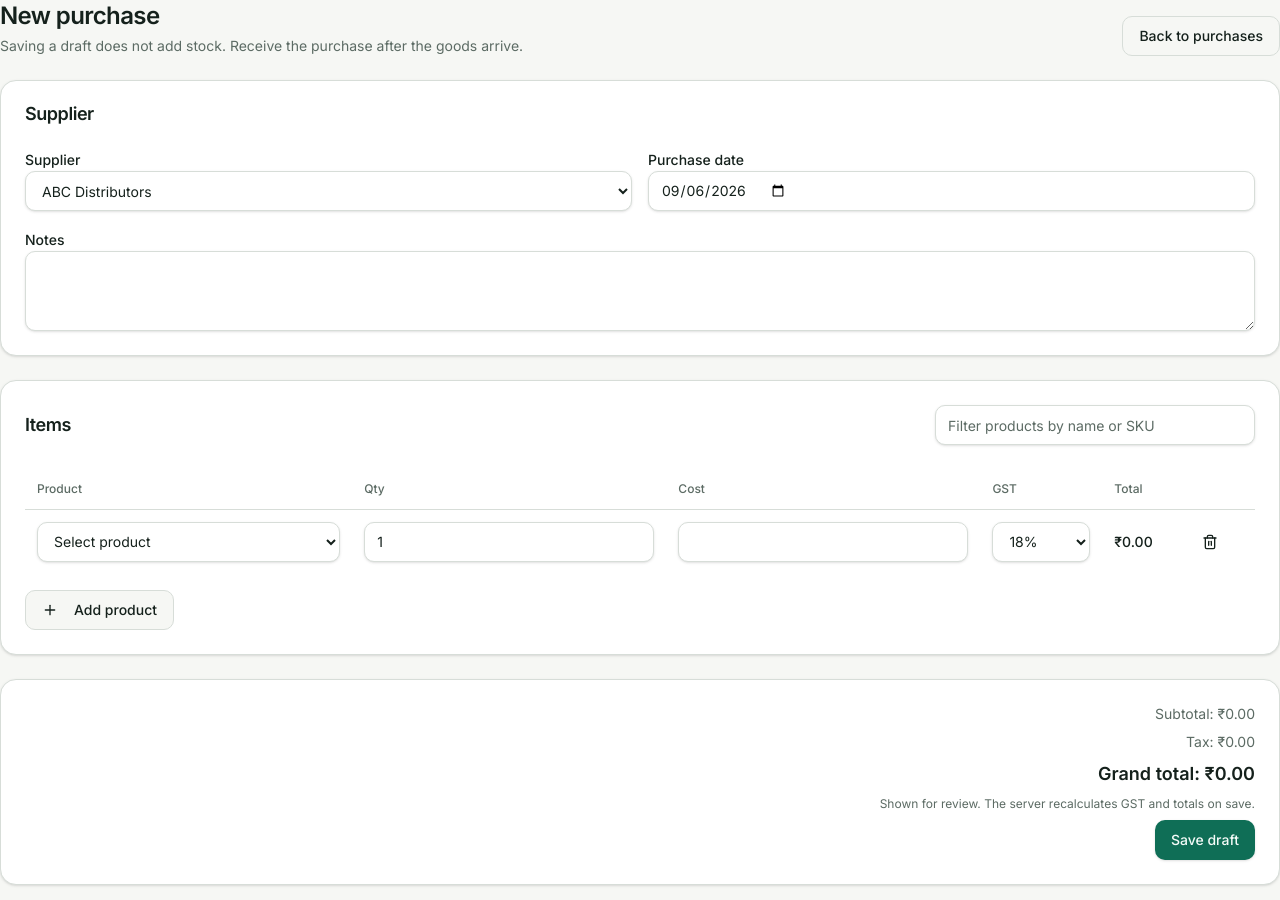
Purchase form › adds and removes lines and shows running totals
The width and height of the screenshot is (1280, 900).
Expected: the dropdown labelled "Supplier" is shown, [25,171,632,211]
Step 1. Select "Aavin Milk 500ml · AAVIN-500" in the dropdown named "Product" → (189, 542), box [37,522,340,562]
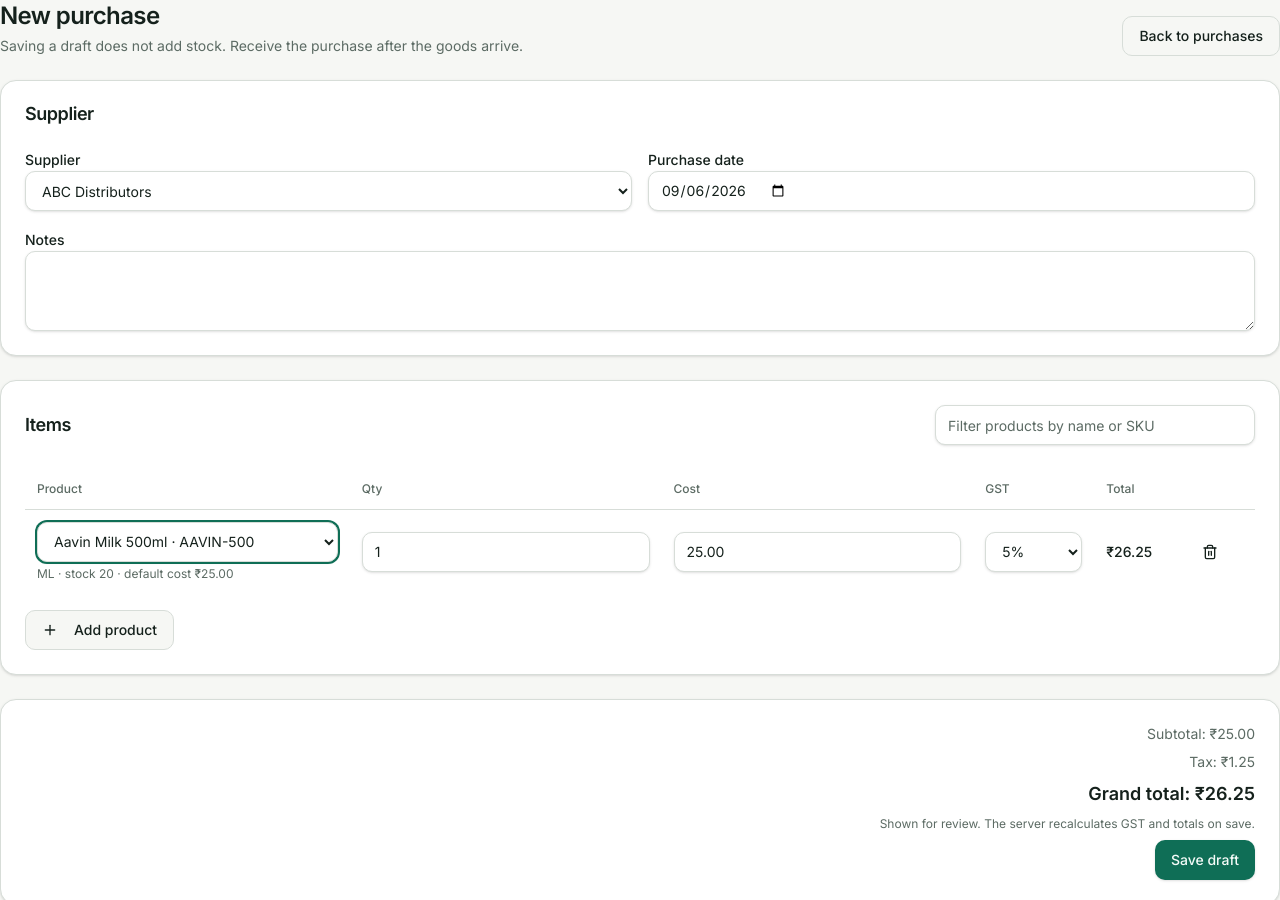
Step 2. Clear the field named "Quantity" → (506, 552), box [362,532,650,572]
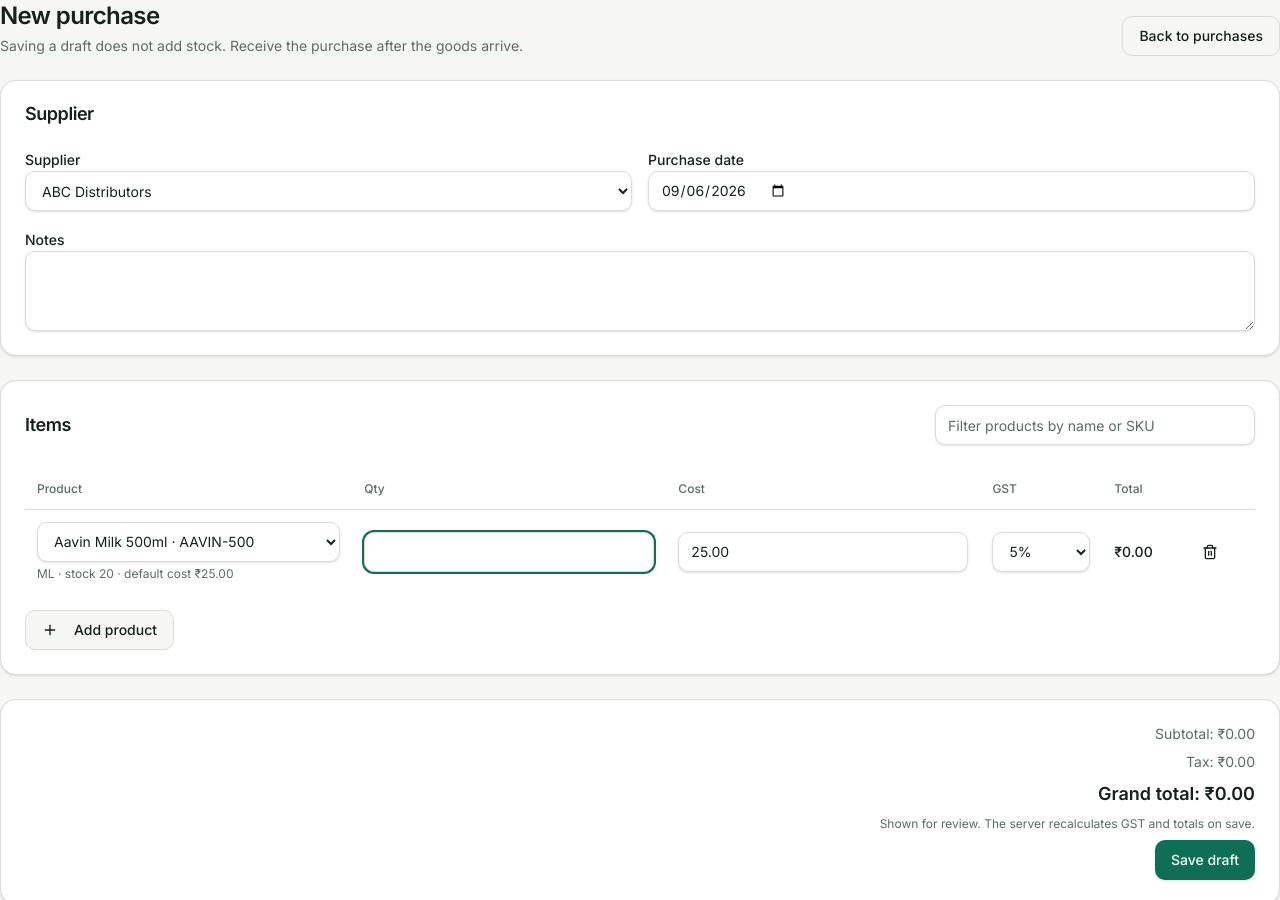
Step 3. Type "100" into the field named "Quantity" → (509, 552), box [364,532,654,572]
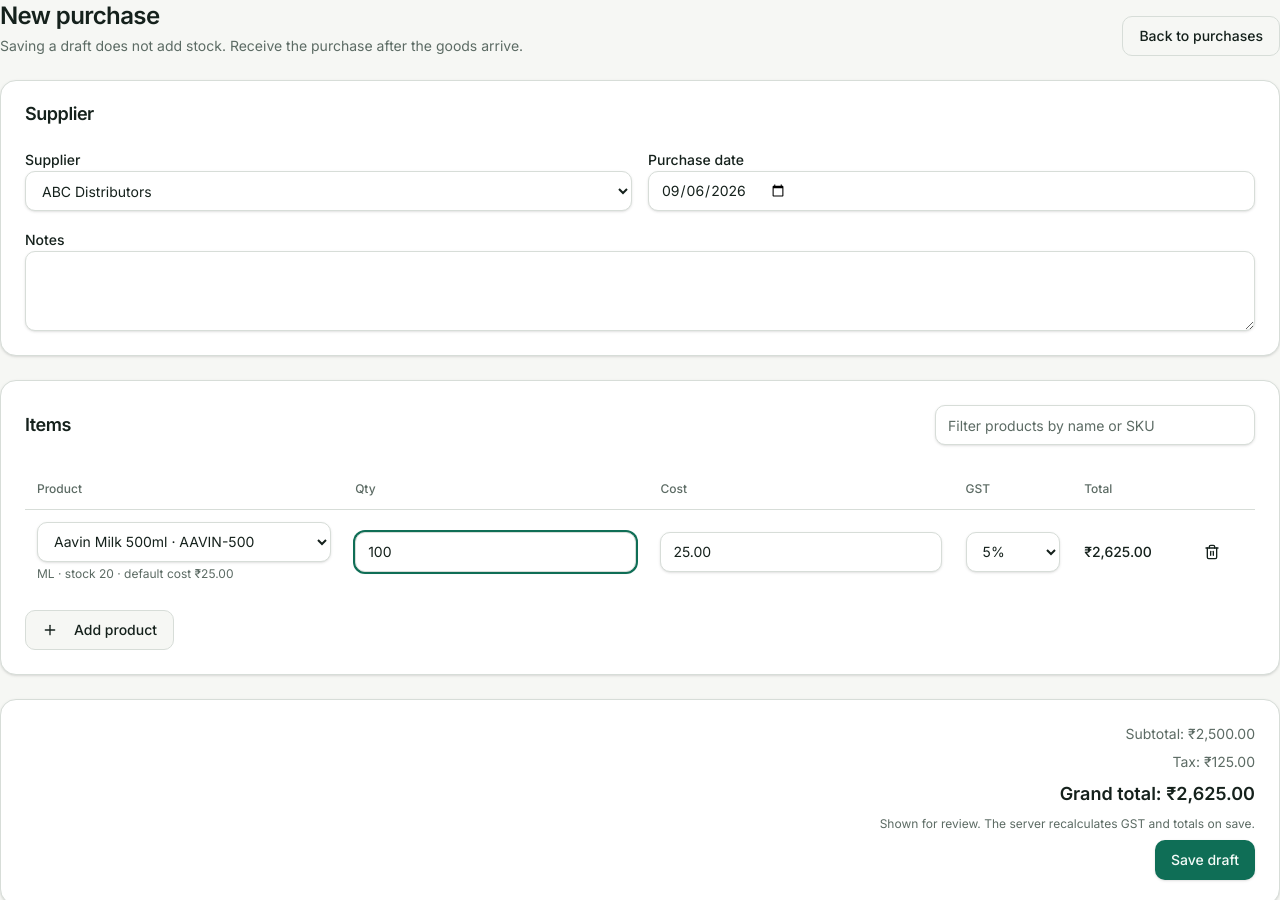
Expected: the text "Grand total: ₹2,625.00" is shown, [1060,780,1255,808]
Step 4. Click the button "Add product" → (100, 630), box [25,610,174,650]
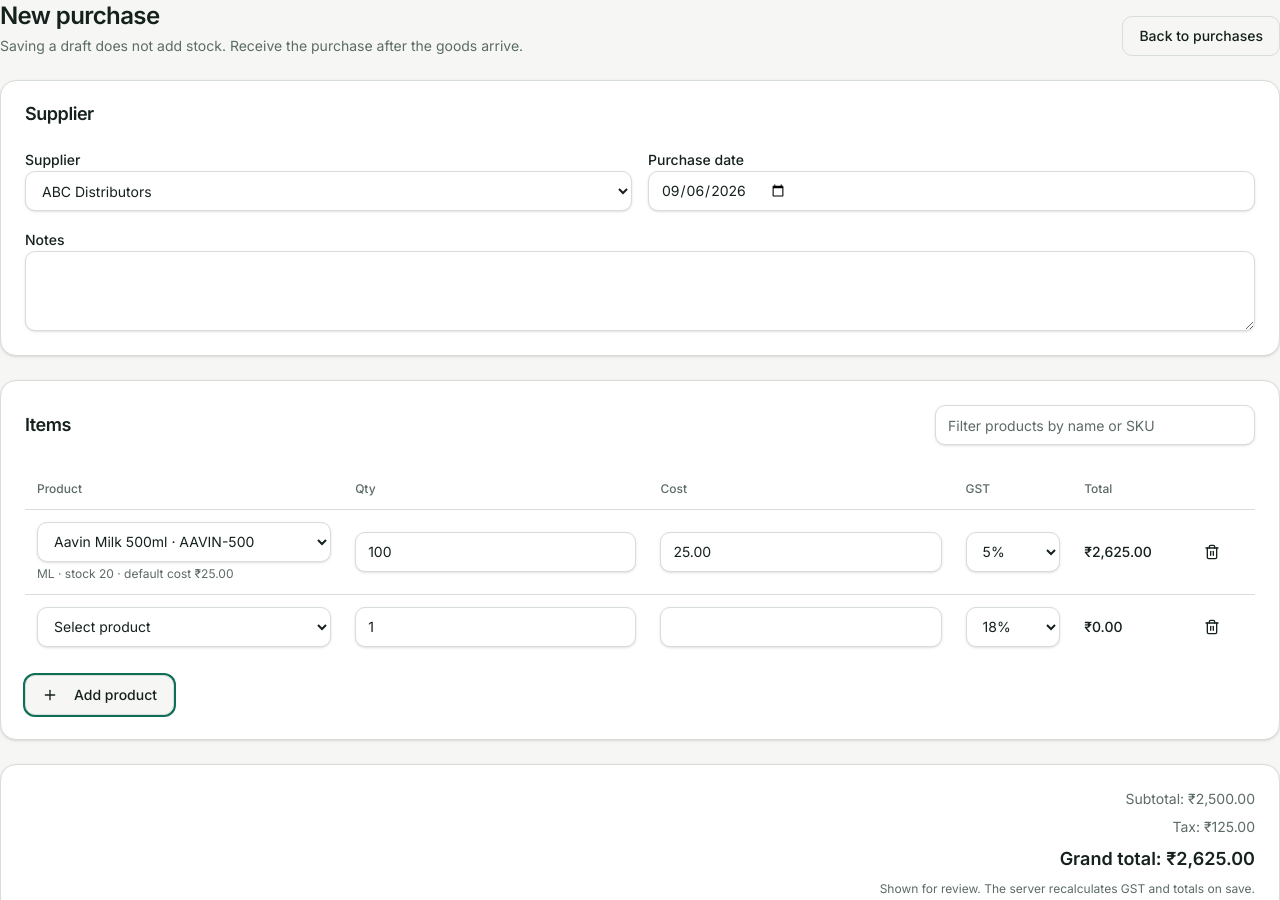
Now the number of dropdowns named "Product" is 2, box [37,522,331,562]; [37,606,331,646]
Step 5. Click the button named "Remove item" next to "₹0.00" → (1212, 626), box [1192,606,1232,646]
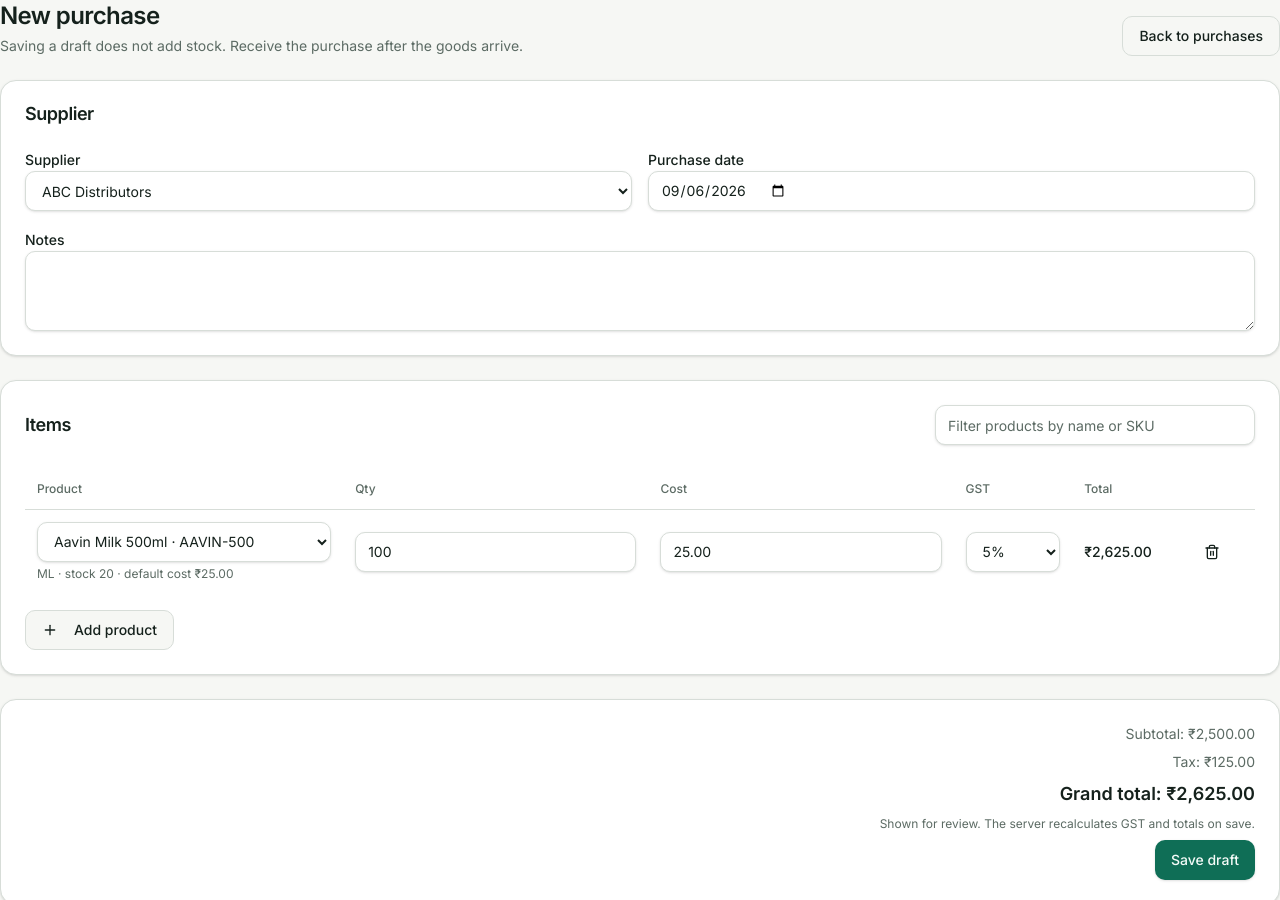
Now the number of dropdowns named "Product" is 1, box [37,522,331,562]
